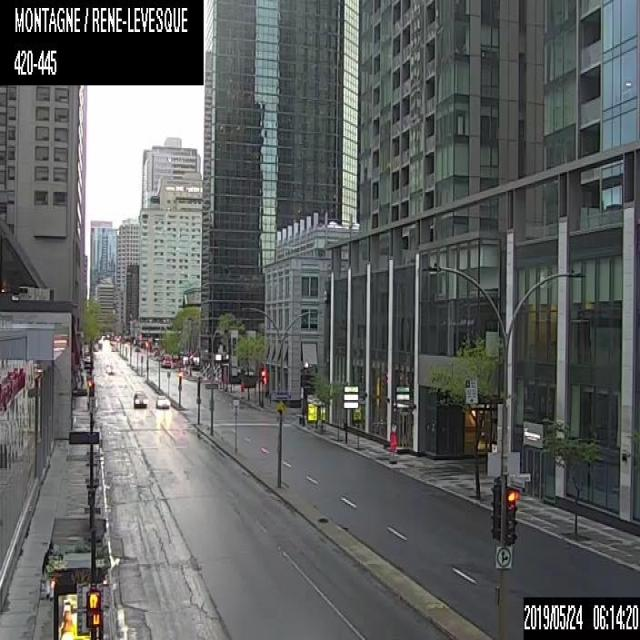construction: (390, 431, 398, 463)
vehicle: (133, 389, 147, 407), (155, 393, 170, 408), (161, 354, 172, 368), (104, 363, 116, 373)
